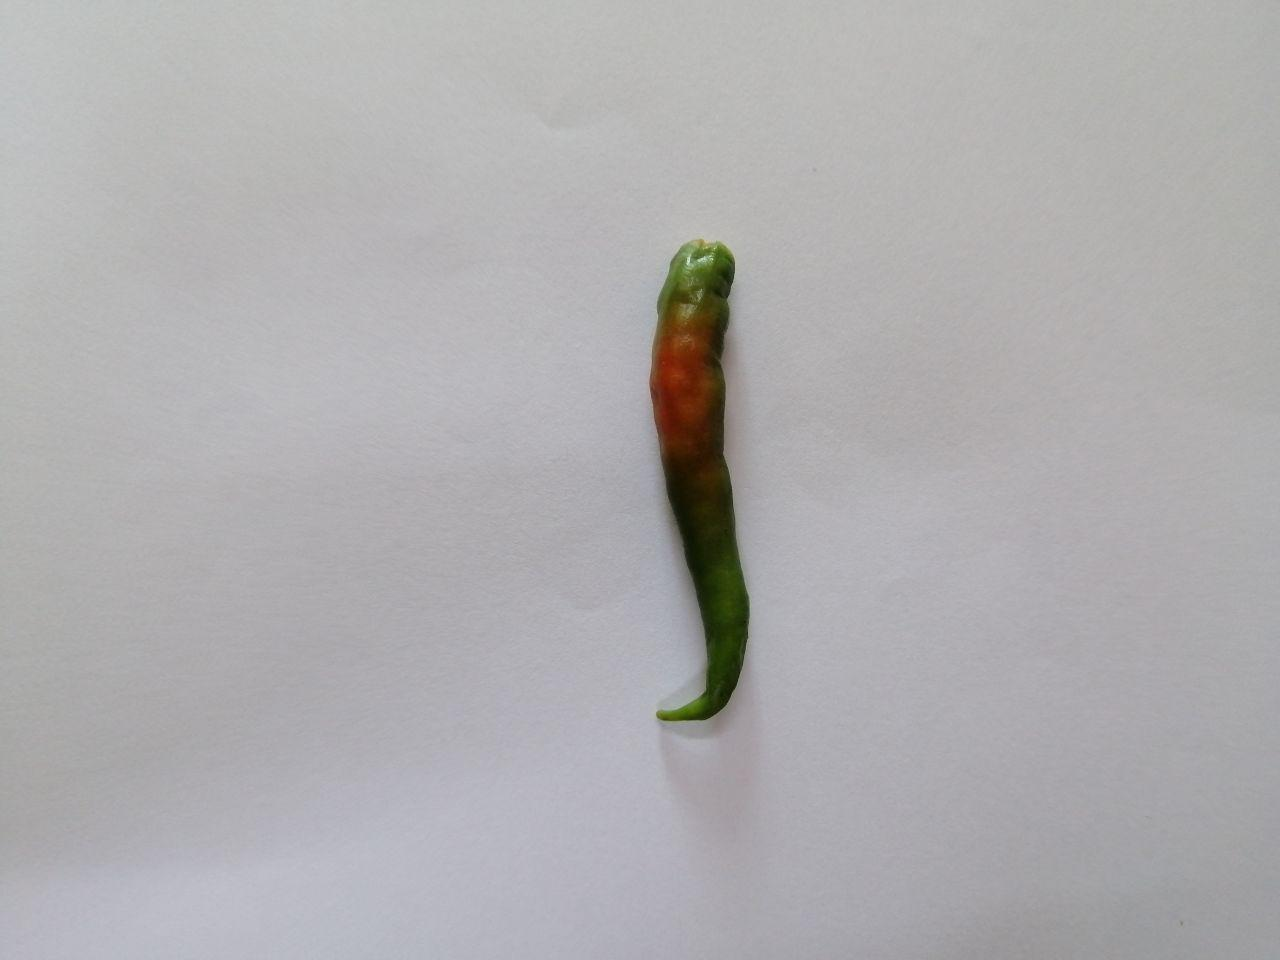lada hijau: (609, 219, 784, 750)
